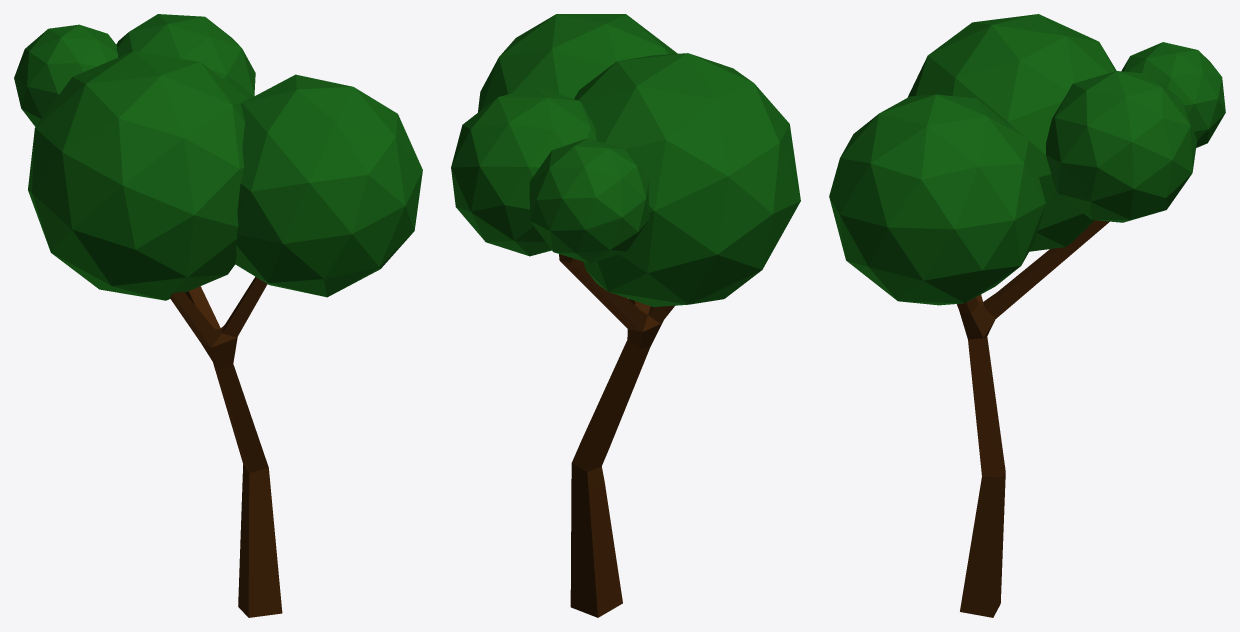
The model's file is Tree1.1.fbx.
The picture shows the model from 3 angles, left to right: view 1: azimuth 30°, elevation 25°; view 2: azimuth 150°, elevation 25°; view 3: azimuth 270°, elevation 25°; orthographic projection. The views are drawn at different scales.
Visible parts, largest first — view 1: Icosphere.003, Icosphere, Tree1.1, Icosphere.002, Icosphere.001; view 2: Icosphere.003, Icosphere.001, Tree1.1, Icosphere.002, Icosphere; view 3: Icosphere, Icosphere.001, Icosphere.003, Tree1.1, Icosphere.002.
Boxes of the visible parts, x1=… form: Icosphere.003: x1=28, y1=51, x2=248, y2=300; Icosphere: x1=235, y1=74, x2=422, y2=297; Tree1.1: x1=170, y1=277, x2=282, y2=617; Icosphere.002: x1=14, y1=24, x2=117, y2=126; Icosphere.001: x1=116, y1=14, x2=255, y2=98; Icosphere.003: x1=574, y1=53, x2=800, y2=306; Icosphere.001: x1=451, y1=87, x2=596, y2=256; Tree1.1: x1=559, y1=254, x2=674, y2=617; Icosphere.002: x1=529, y1=138, x2=649, y2=263; Icosphere: x1=478, y1=14, x2=677, y2=112; Icosphere: x1=829, y1=94, x2=1045, y2=305; Icosphere.001: x1=1045, y1=71, x2=1197, y2=222; Icosphere.003: x1=907, y1=14, x2=1116, y2=251; Tree1.1: x1=957, y1=220, x2=1109, y2=617; Icosphere.002: x1=1121, y1=42, x2=1225, y2=147.
Size of the model in its own units: 741 by 1218 by 811.
